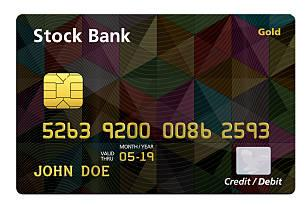payment_card: (16, 12, 296, 195)
